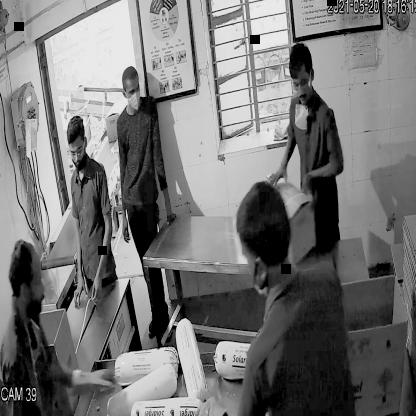goggles: (288, 71, 316, 94), (68, 140, 88, 162)
